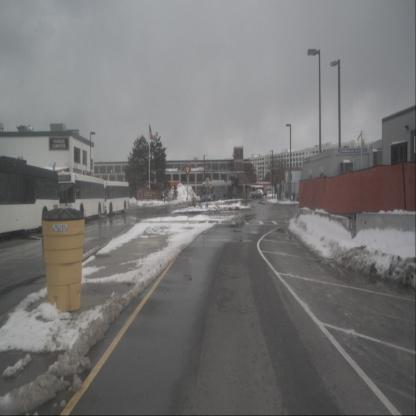vehicle-bus-rigid: (0, 158, 61, 235), (46, 170, 106, 222), (90, 180, 130, 218), (202, 181, 226, 203), (244, 185, 264, 198)
vehicle-car: (251, 189, 264, 199)
